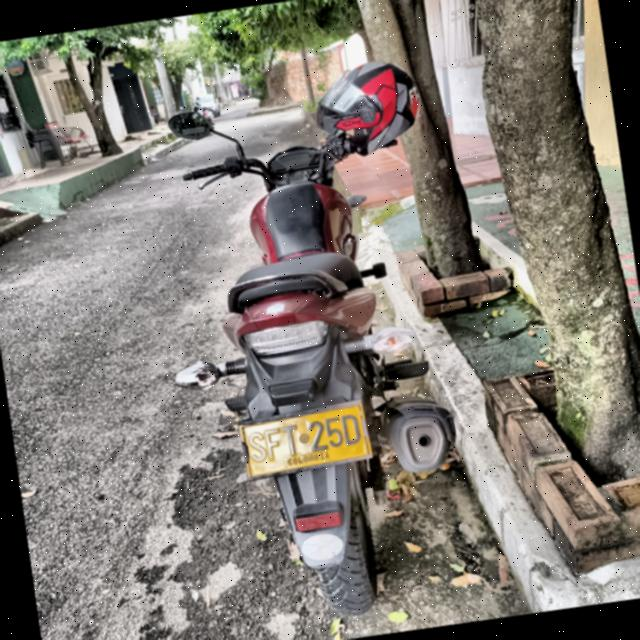2: (307, 419, 330, 453)
5: (324, 416, 346, 450)
D: (340, 413, 362, 447)
F: (264, 427, 283, 462)
S: (245, 430, 269, 464)
T: (280, 424, 300, 458)
